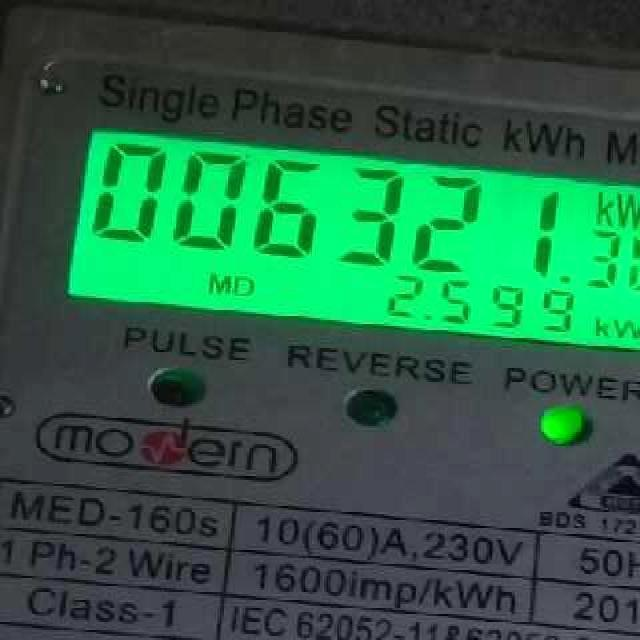LCD: (60, 125, 640, 356)
